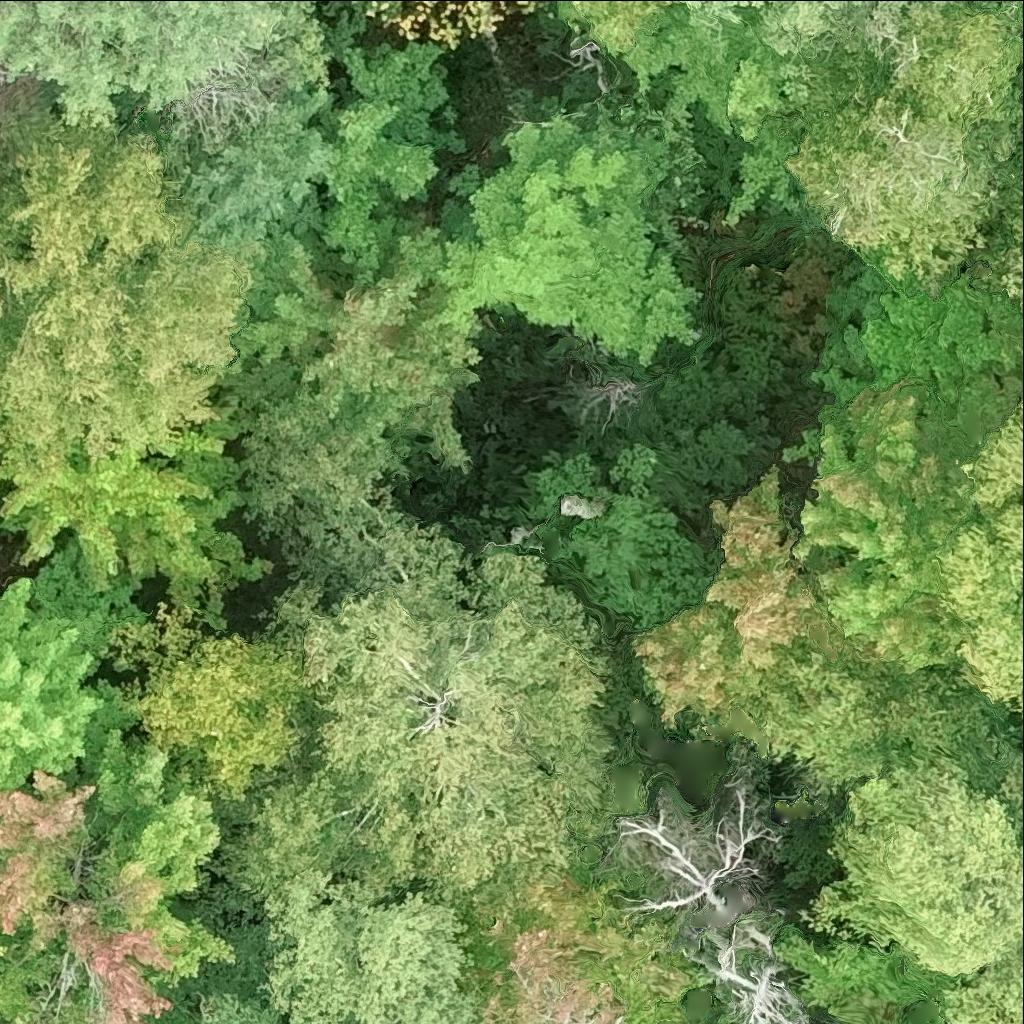crown: (235, 520, 610, 914), (0, 136, 249, 478), (0, 724, 237, 1023), (792, 370, 1023, 667), (432, 103, 696, 362), (782, 2, 1023, 283), (634, 467, 872, 725), (239, 227, 484, 469), (814, 769, 1023, 977), (439, 870, 692, 1023), (119, 604, 311, 799), (0, 429, 228, 588), (0, 0, 280, 123), (263, 871, 473, 1023), (864, 278, 1023, 447), (0, 579, 103, 793), (619, 788, 776, 915), (944, 498, 1023, 718), (712, 916, 809, 1023), (769, 0, 956, 55), (725, 33, 816, 140), (973, 179, 1023, 319), (970, 400, 1023, 503), (579, 0, 673, 53), (716, 0, 755, 19), (669, 0, 704, 10)
